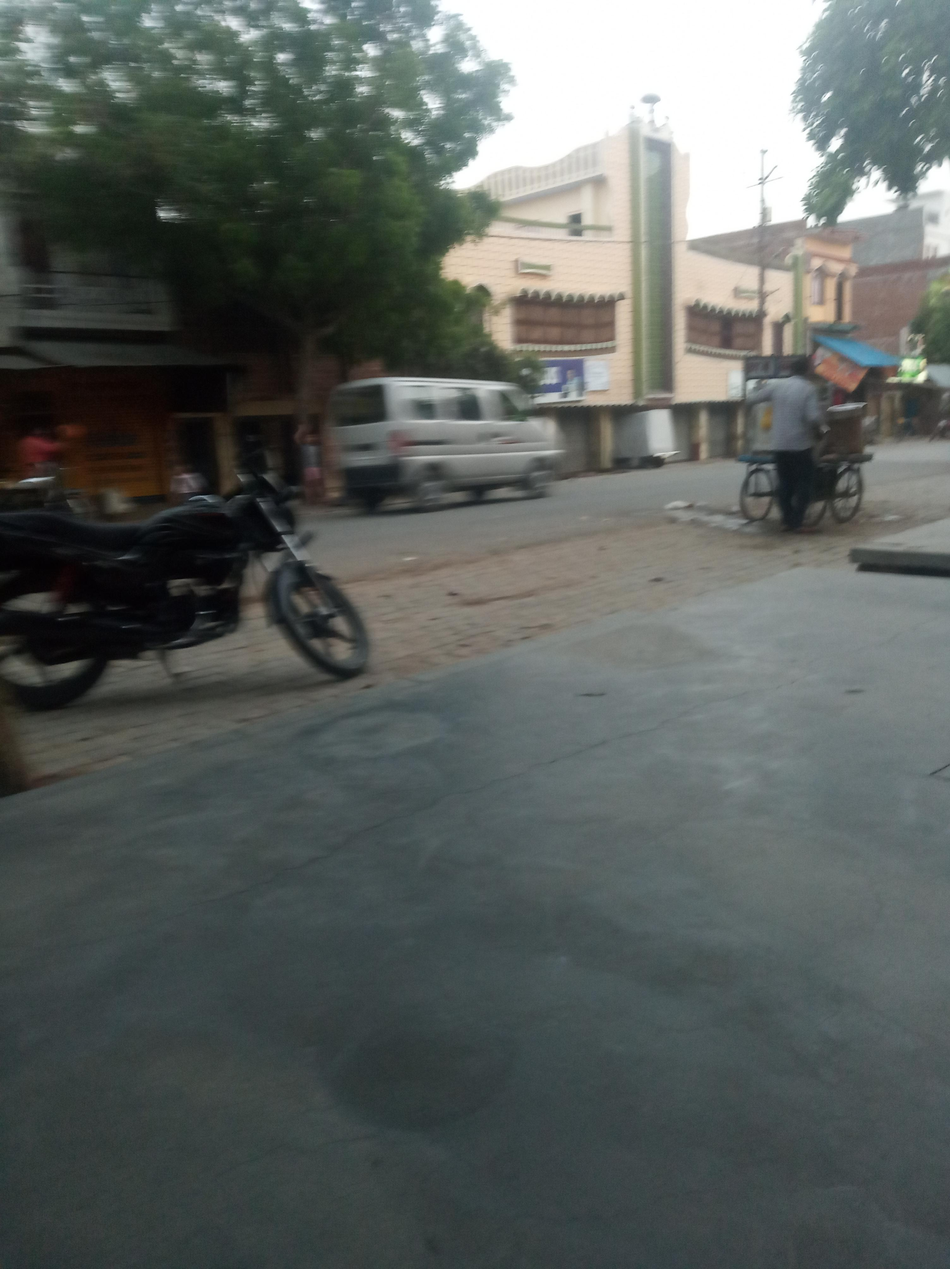Non-emergency: (298, 375, 609, 571)
